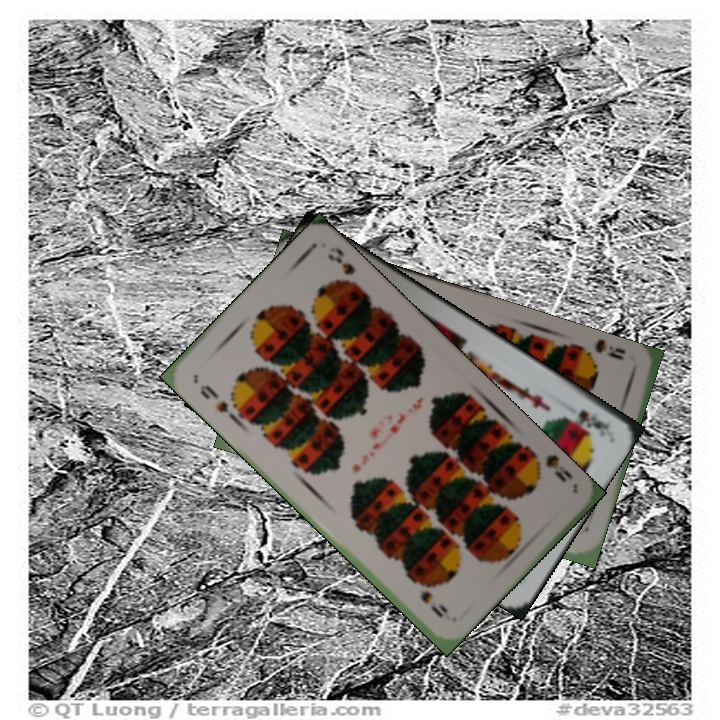S9: (524, 447, 576, 485), (575, 337, 628, 364), (195, 380, 231, 416)
SK: (574, 405, 613, 440)
